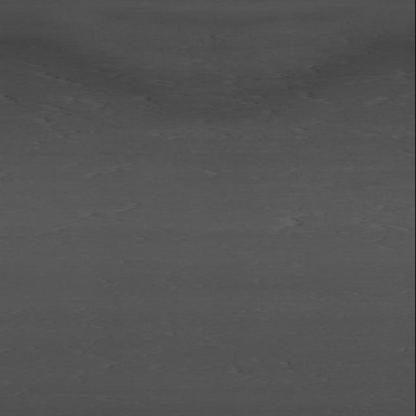silk_spot: (65, 84, 205, 144), (79, 157, 143, 233)
